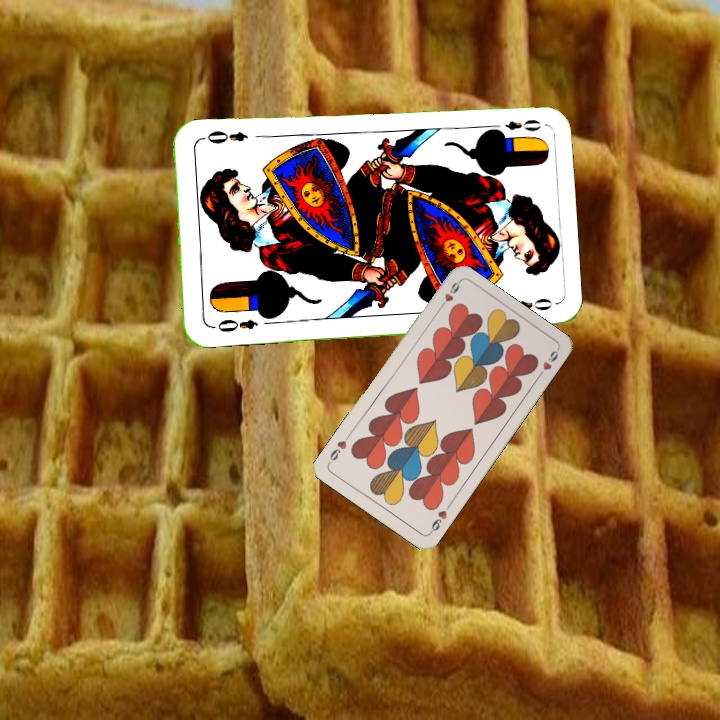EO: (486, 115, 543, 135), (207, 315, 261, 335)
H9: (434, 278, 463, 313), (425, 506, 450, 537)
